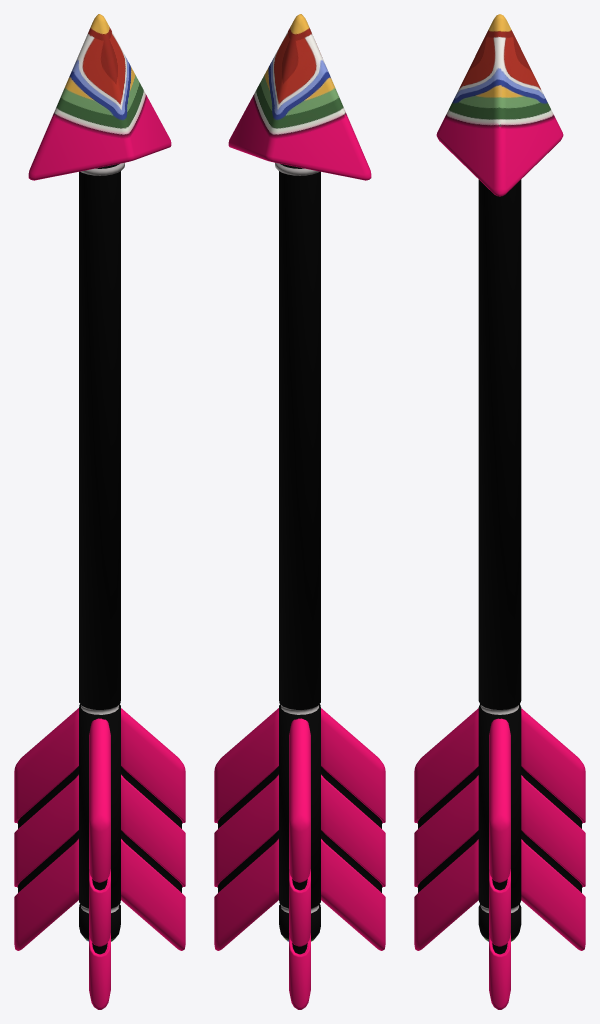
Rendered from arrow_v2.glb.
3 renders of one model, left to right at view 1: azimuth 30°, elevation 25°; view 2: azimuth 150°, elevation 25°; view 3: azimuth 270°, elevation 25°, orthographic.
Parts seen in each view (by area): view 1: arrow; view 2: arrow; view 3: arrow.
Part boxes in pixels (x1,y1,x2,y2): arrow: [14, 14, 185, 1009]; arrow: [214, 14, 385, 1009]; arrow: [414, 14, 585, 1009].
Bounding box in the file's own units: 1.04 × 6.17 × 1.
Materials: 1 (1 with a texture image).
